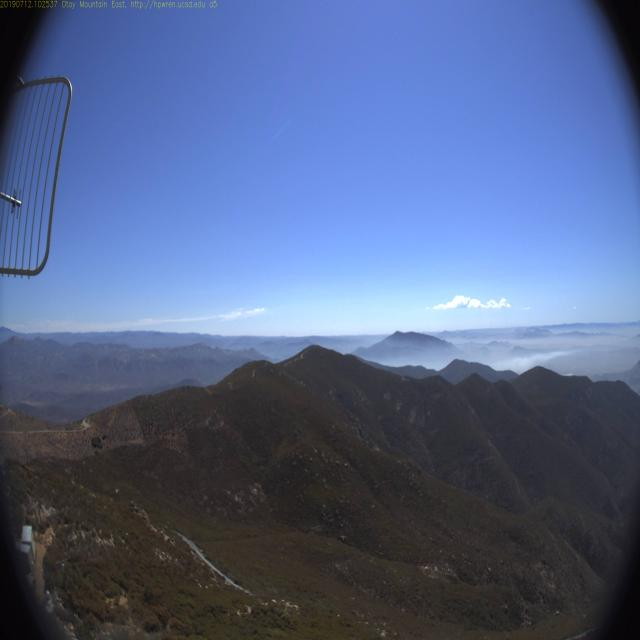smoke: (502, 342, 585, 391)
